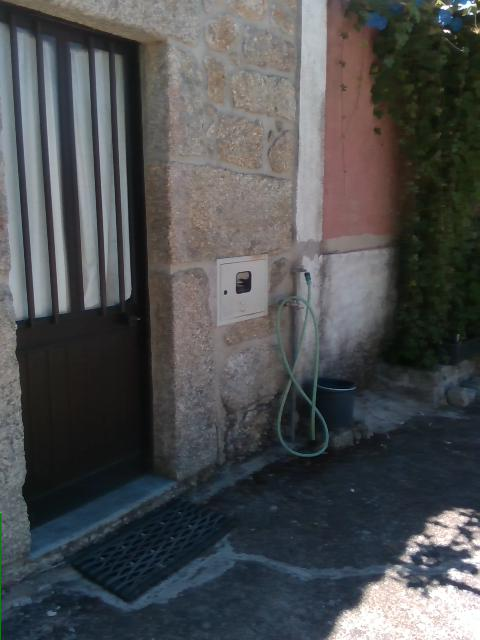door: (1, 1, 155, 534)
